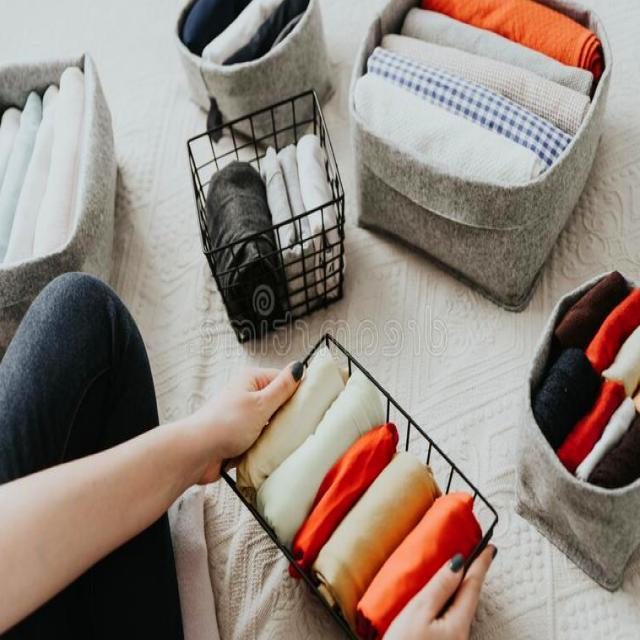clothes: (378, 0, 594, 169), (559, 280, 640, 473), (0, 72, 81, 253), (210, 133, 320, 264), (197, 0, 294, 62)
